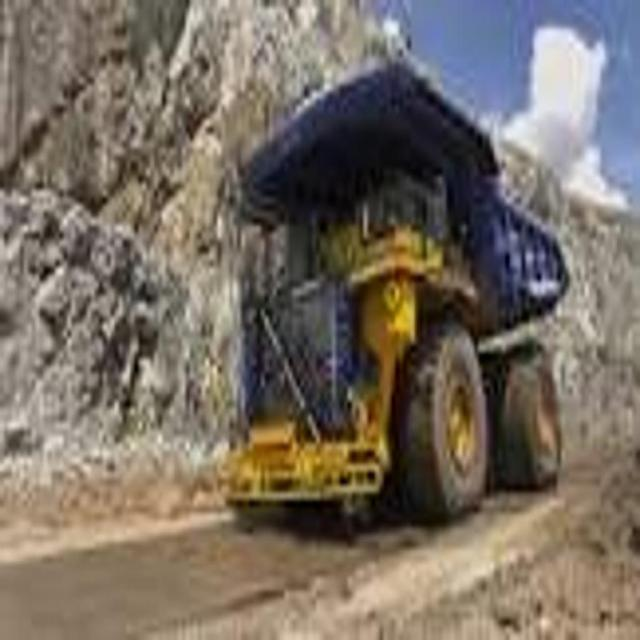dump_truck: (226, 59, 570, 514)
